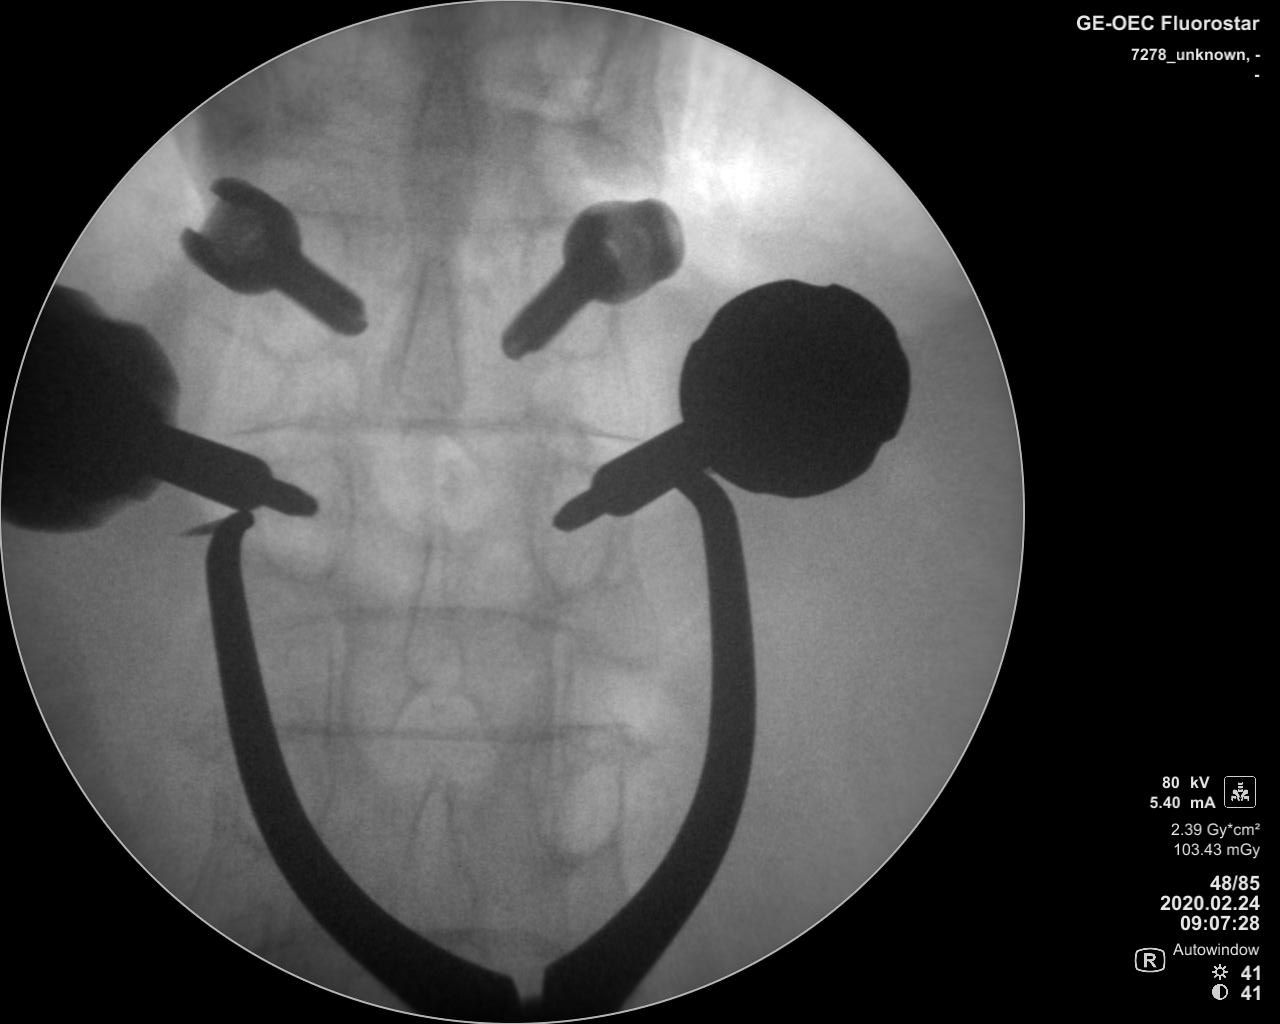eyes: (261, 439, 349, 587), (253, 224, 343, 367), (522, 465, 619, 596), (525, 227, 610, 359), (536, 747, 623, 859)
line: (222, 413, 637, 444), (266, 606, 597, 645), (309, 195, 561, 239), (269, 716, 582, 750)
nose: (405, 47, 478, 241), (397, 515, 469, 696), (392, 251, 466, 423), (401, 779, 481, 933)
